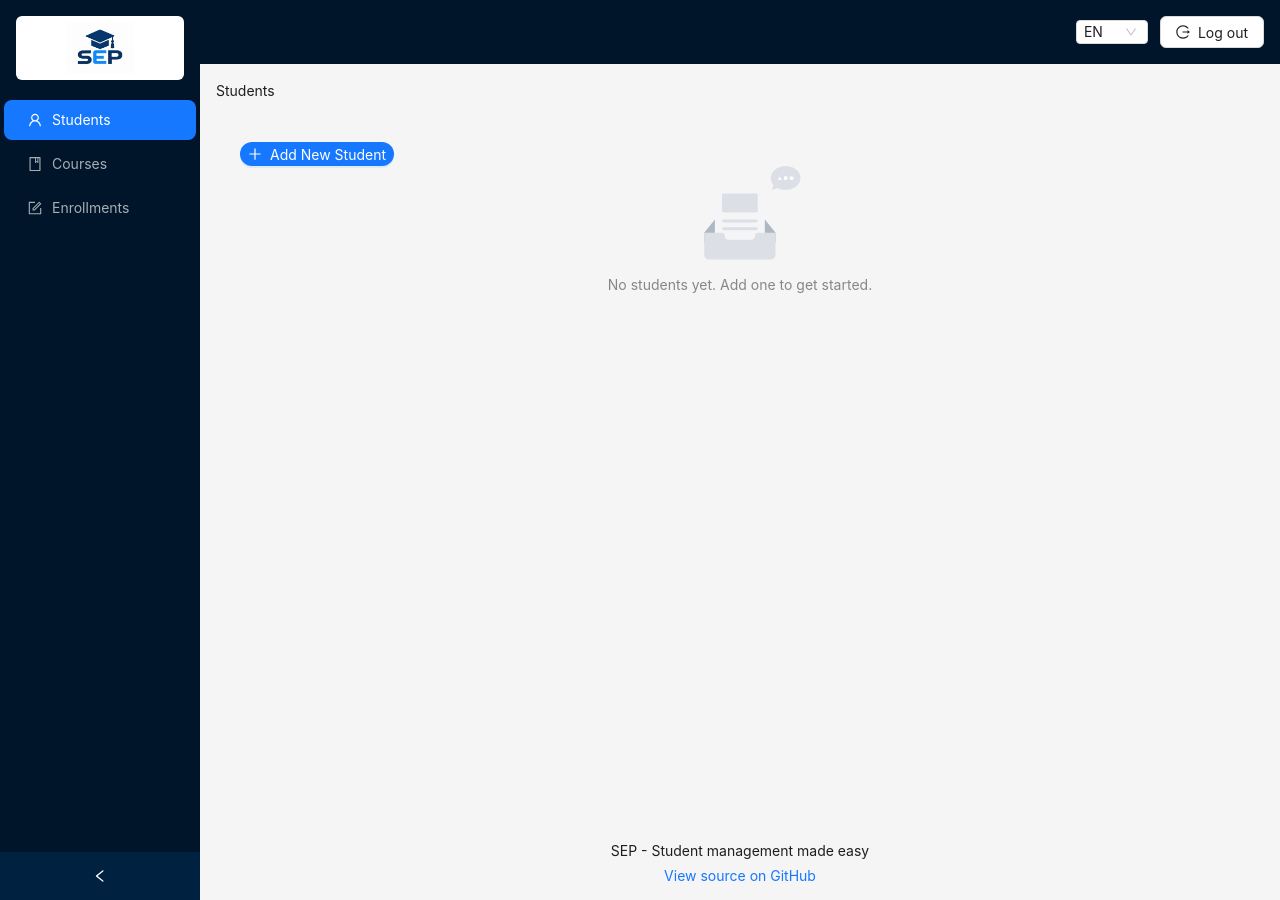
App › switches to Enrollments via the sidebar and shows the enrollments empty state
Expected: the text "Add New Student" is shown, x1=270 y1=146 x2=386 y2=162
Click the menu item "Enrollments" at (79, 208), box x1=28 y1=199 x2=129 y2=216
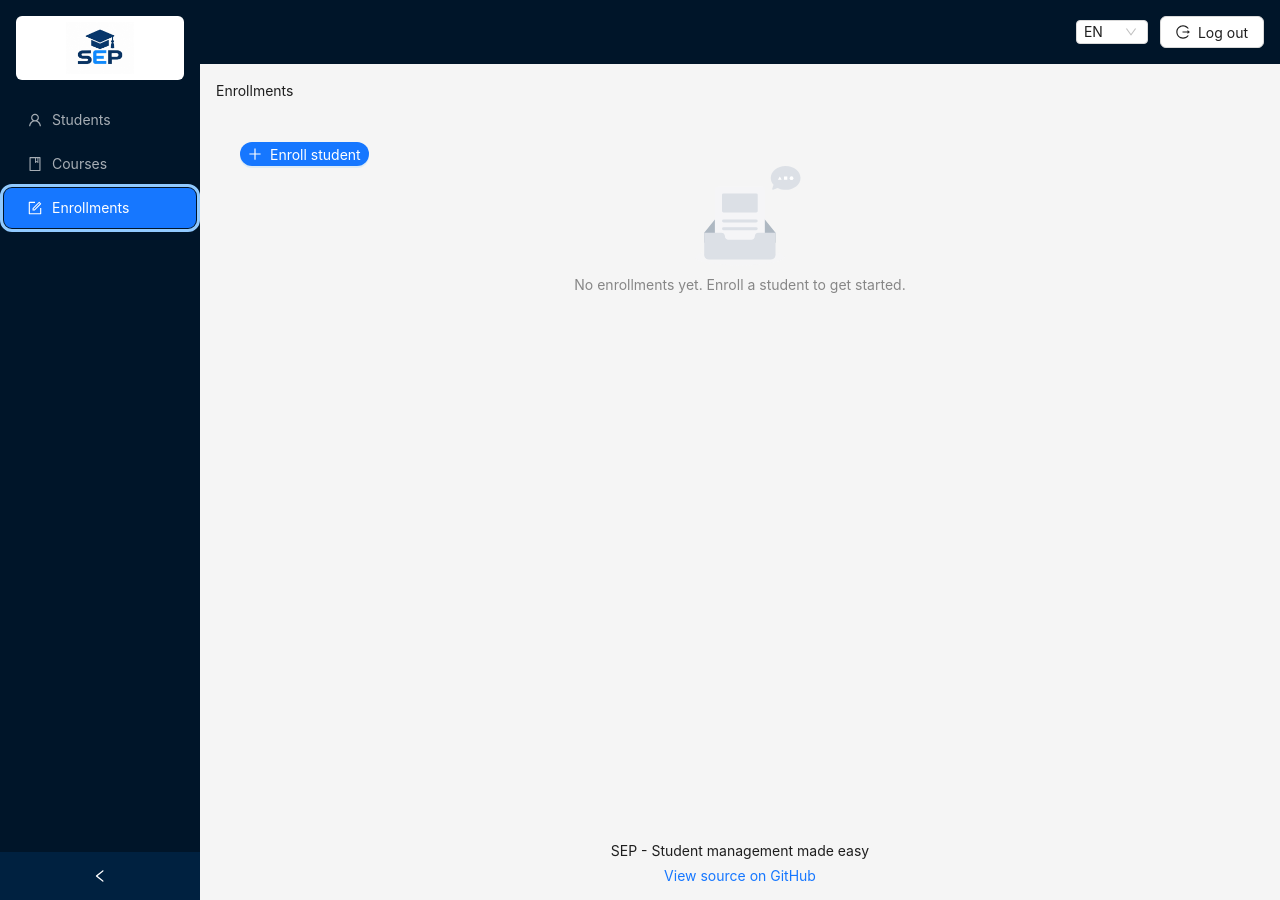
Now the text "Enroll student" is shown, box x1=270 y1=146 x2=361 y2=162
Now the text "No enrollments yet. Enroll a student to get started." is shown, box x1=574 y1=276 x2=906 y2=293
Now the navigation bar reads "Enrollments", box x1=216 y1=82 x2=293 y2=99
